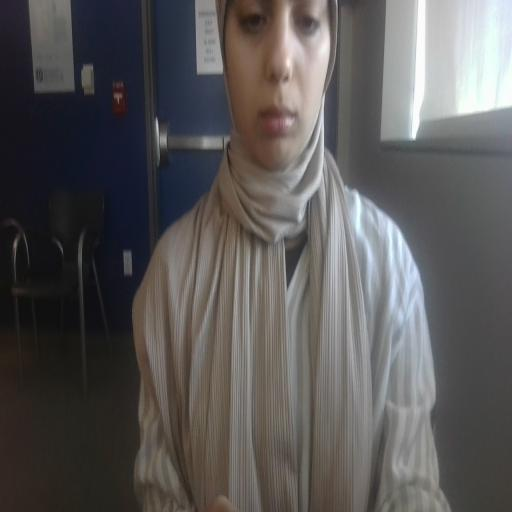lookingdownatphone: (230, 6, 334, 150)
